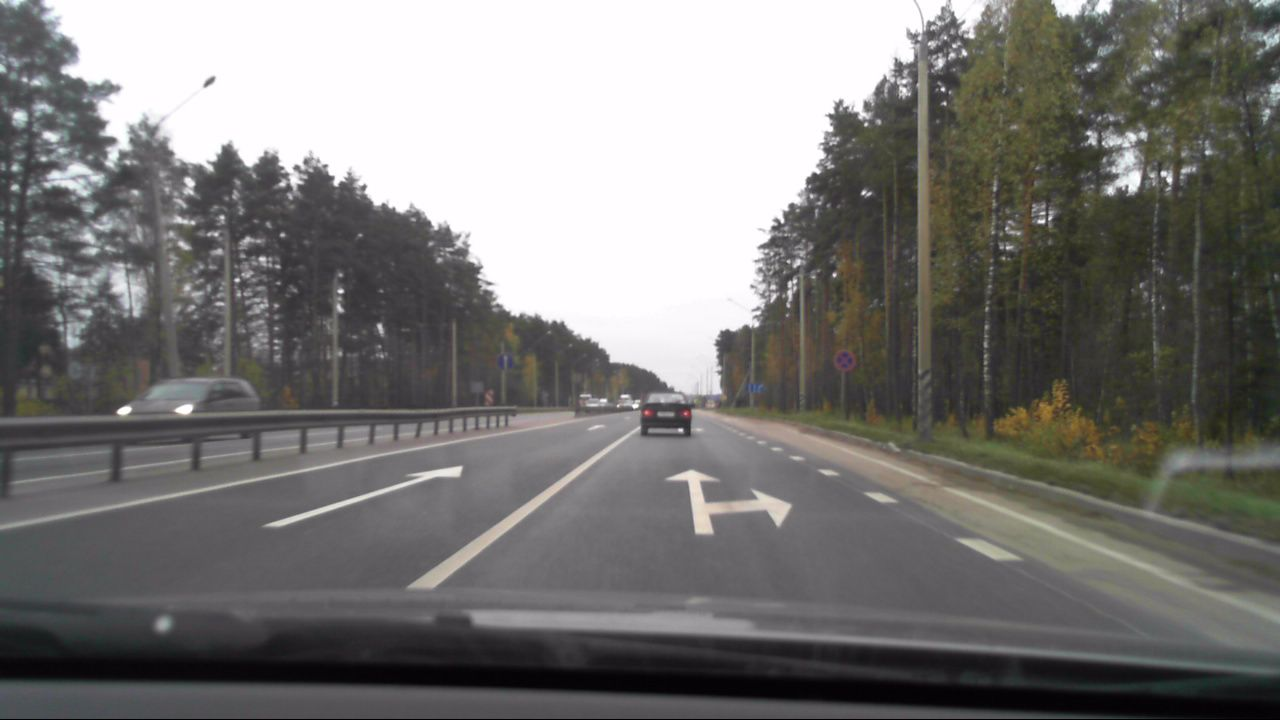No Parking: (833, 347, 855, 369)
